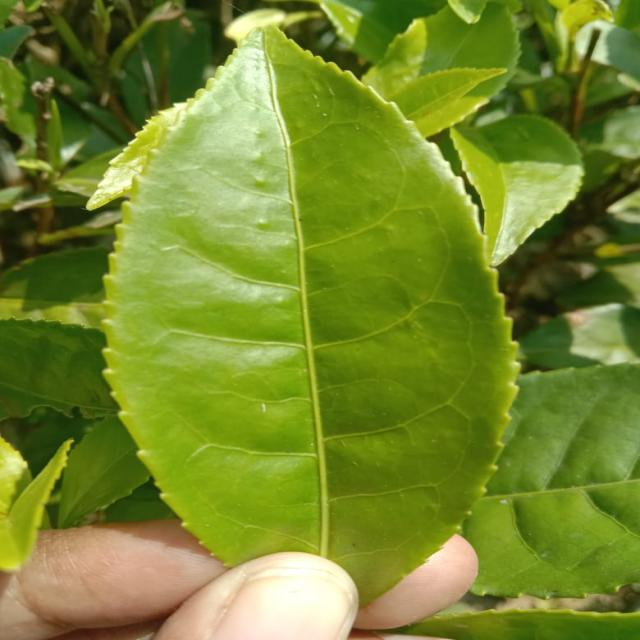Category B(2-4 days): (82, 17, 527, 606)
